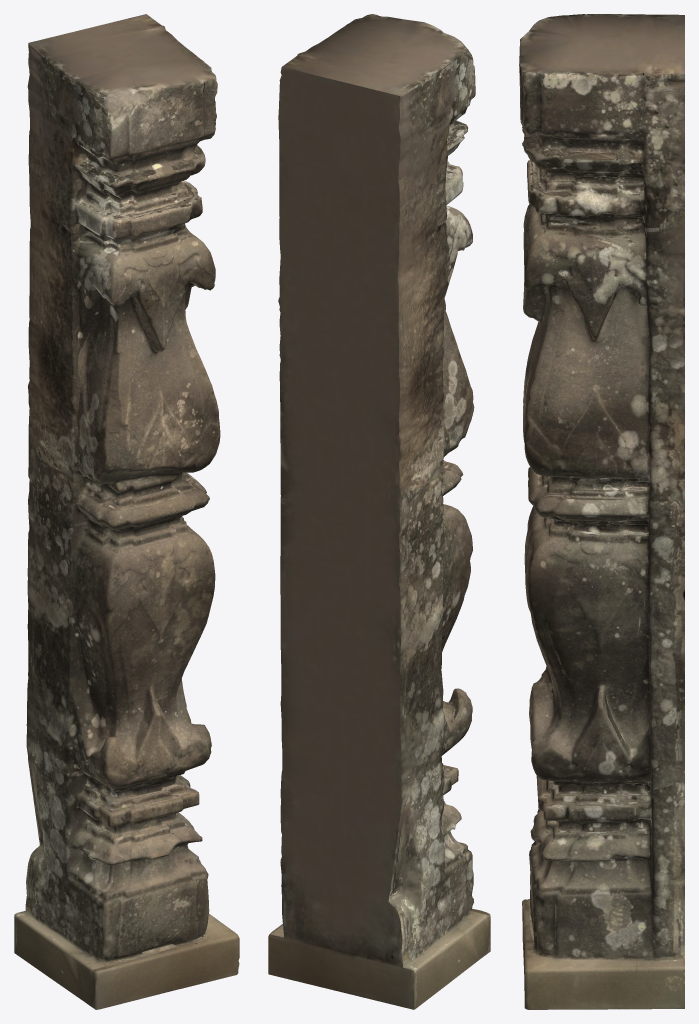
The model's file is MysonMuseum_trucuaD2_final.glb.
The picture shows the model from 3 angles, left to right: view 1: azimuth 30°, elevation 25°; view 2: azimuth 150°, elevation 25°; view 3: azimuth 270°, elevation 25°; orthographic projection. The views are drawn at different scales.
Bounding box in the file's own units: 0.4023 × 2.36 × 0.3814.
Materials: 1 (1 with a texture image).
